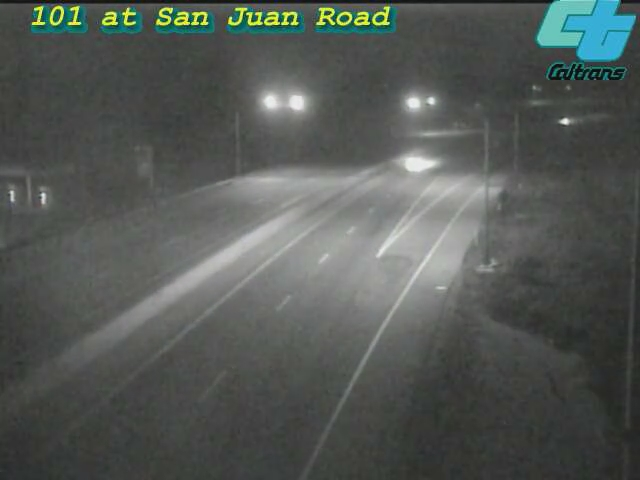vehicle: (377, 126, 457, 206), (539, 97, 589, 147)
